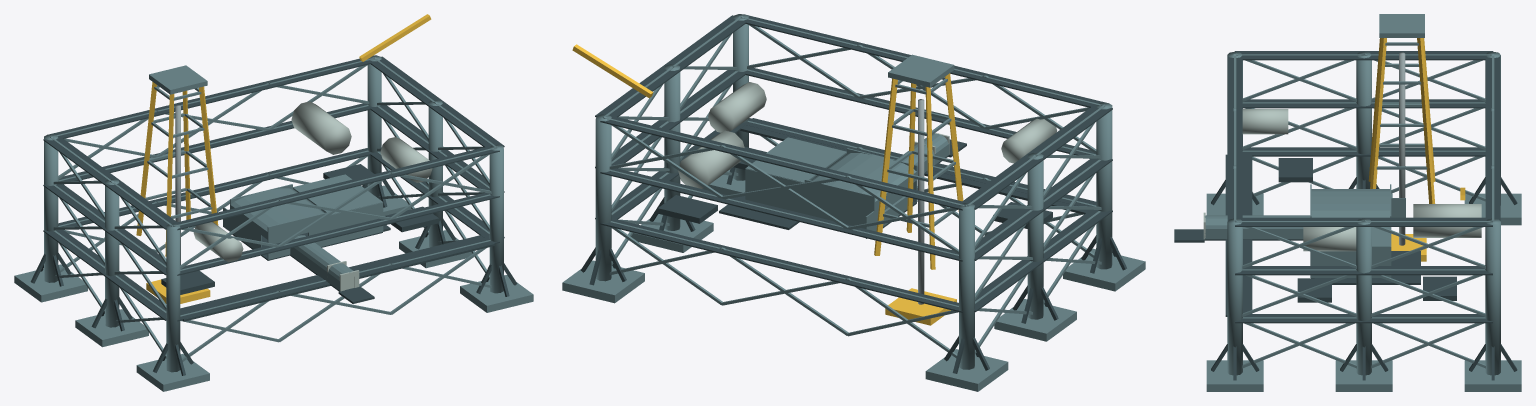
Rendered from rig-far.glb.
The picture shows the model from 3 angles, left to right: view 1: azimuth 30°, elevation 25°; view 2: azimuth 150°, elevation 25°; view 3: azimuth 270°, elevation 25°; orthographic projection. The views are drawn at different scales.
Parts seen in each view (by area): view 1: exterior_Hull, exterior_Steel, interior_Hull, exterior_HullLight, exterior_Safety, exterior_Metal; view 2: exterior_Hull, exterior_Steel, interior_Hull, exterior_Safety, exterior_HullLight, exterior_Metal; view 3: exterior_Hull, exterior_Steel, interior_Hull, exterior_HullLight, exterior_Safety, exterior_Metal.
Boxes of the visible parts, left/top/right/bottom form: exterior_Hull: left=14, top=55, right=533, bottom=391; exterior_Steel: left=30, top=56, right=517, bottom=375; interior_Hull: left=223, top=174, right=383, bottom=290; exterior_HullLight: left=193, top=101, right=432, bottom=262; exterior_Safety: left=136, top=14, right=431, bottom=303; exterior_Metal: left=175, top=105, right=180, bottom=264; exterior_Hull: left=562, top=14, right=1145, bottom=391; exterior_Steel: left=580, top=15, right=1126, bottom=373; interior_Hull: left=745, top=133, right=949, bottom=238; exterior_Safety: left=572, top=44, right=963, bottom=325; exterior_HullLight: left=678, top=82, right=1056, bottom=188; exterior_Metal: left=918, top=99, right=924, bottom=304; exterior_Hull: left=1206, top=14, right=1521, bottom=391; exterior_Steel: left=1174, top=51, right=1517, bottom=380; interior_Hull: left=1204, top=184, right=1405, bottom=277; exterior_HullLight: left=1242, top=109, right=1481, bottom=251; exterior_Safety: left=1368, top=38, right=1465, bottom=261; exterior_Metal: left=1399, top=52, right=1405, bottom=245.
Size of the model in its own units: 125 by 67.7 by 91.5.
